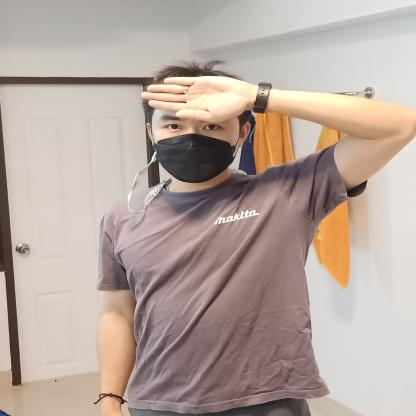Sick: (132, 72, 416, 179)
